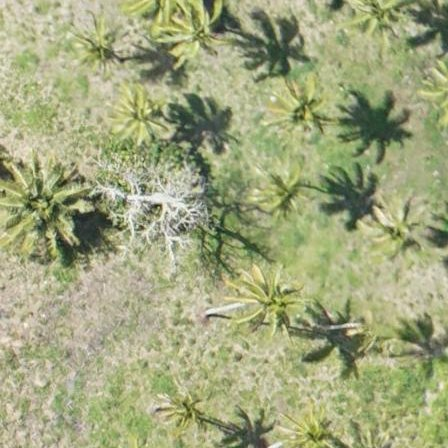palm_tree: (1, 155, 78, 244), (102, 81, 169, 153), (155, 3, 220, 72), (235, 266, 295, 330), (266, 77, 325, 139), (363, 199, 419, 262), (251, 162, 308, 217), (282, 407, 338, 448), (155, 388, 206, 433), (341, 1, 401, 37), (79, 20, 120, 64)
